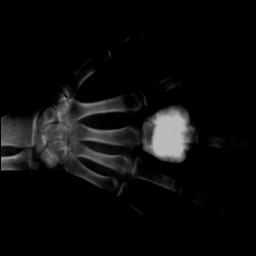cancer: (150, 107, 192, 165)
